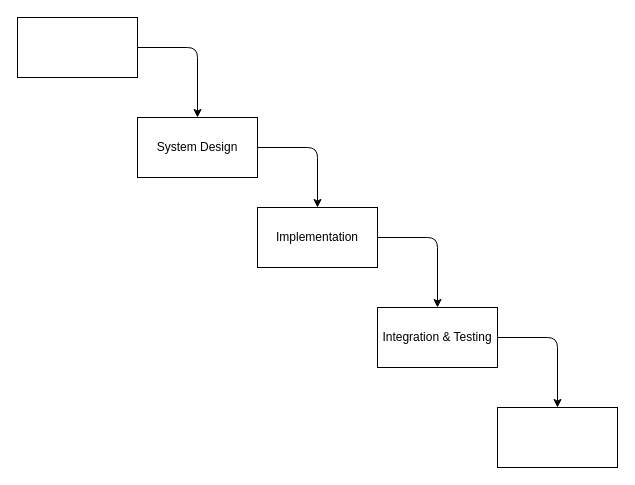
Image size: 635x485. Some labels were removed from this diagram. The shapes that lost their labels are listed below. From the top down, each one's centre as x and y in pixels, then its label:
[77,47]: Requirement Gathering & Analysis
[557,437]: Maintainance
